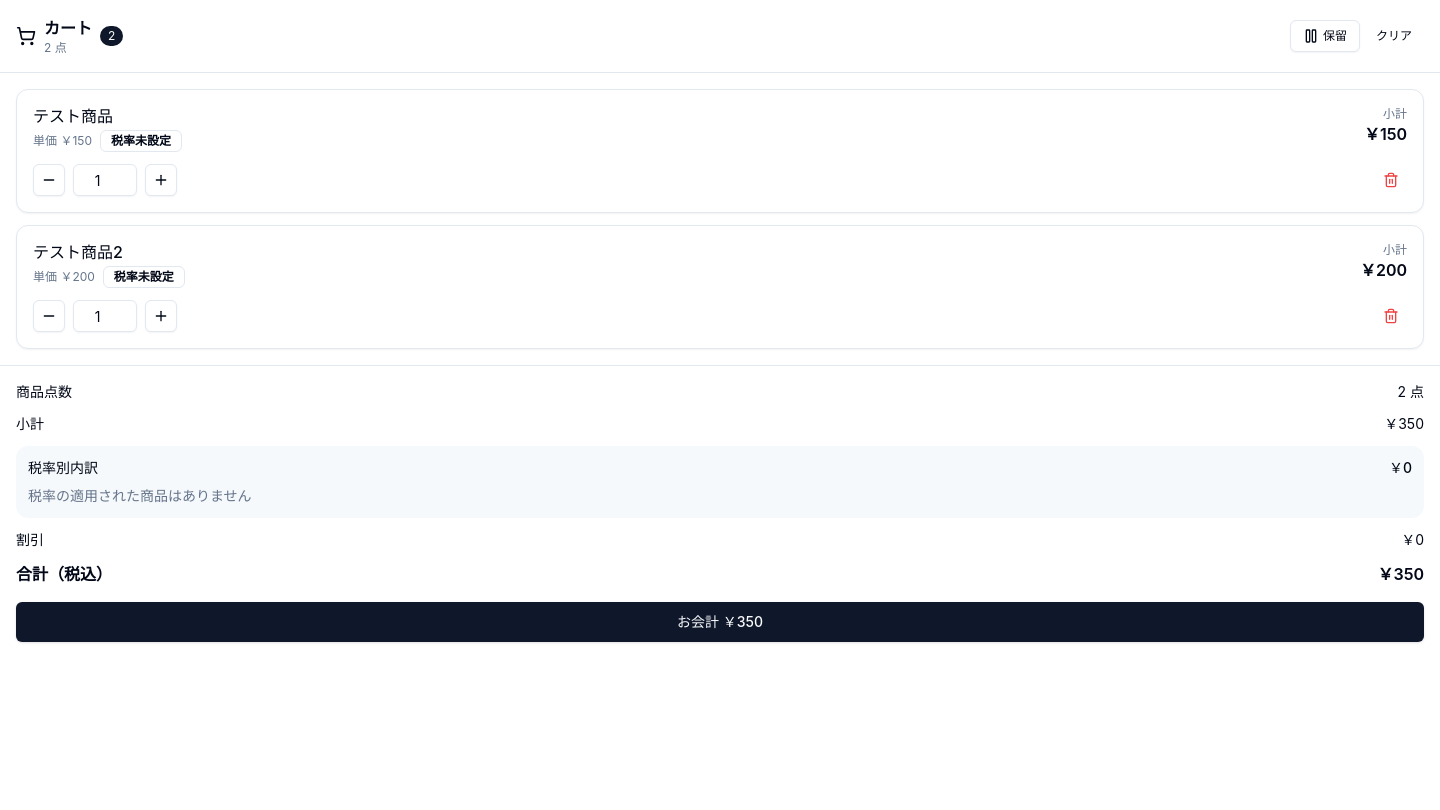
Test: CartPanel › クリアボタンで全商品が削除される
This screenshot has width=1440, height=810.
Click the button "クリア" at (1394, 36), box [1364,20,1424,52]
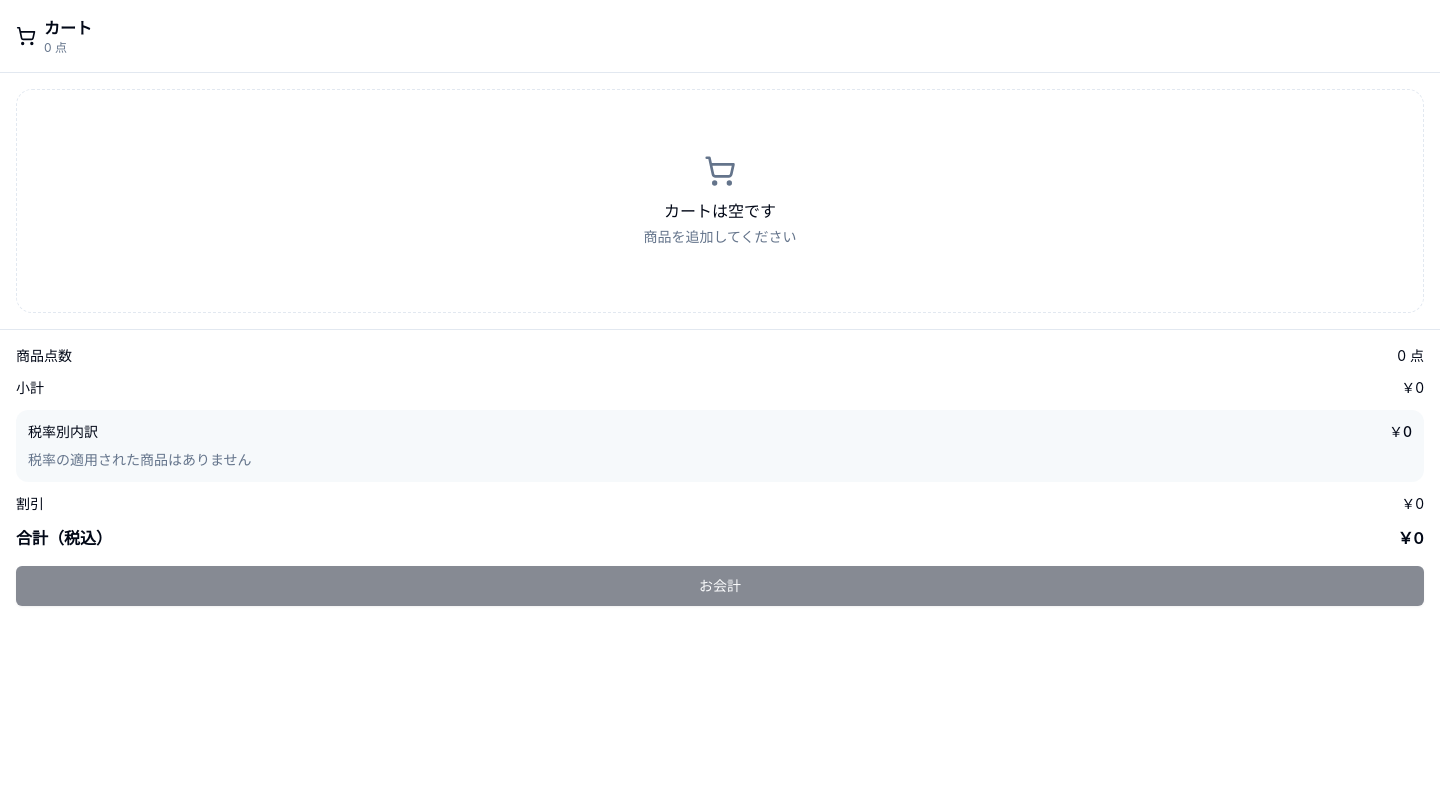
Now the text "カートは空です" is shown, box [664,201,776,221]
